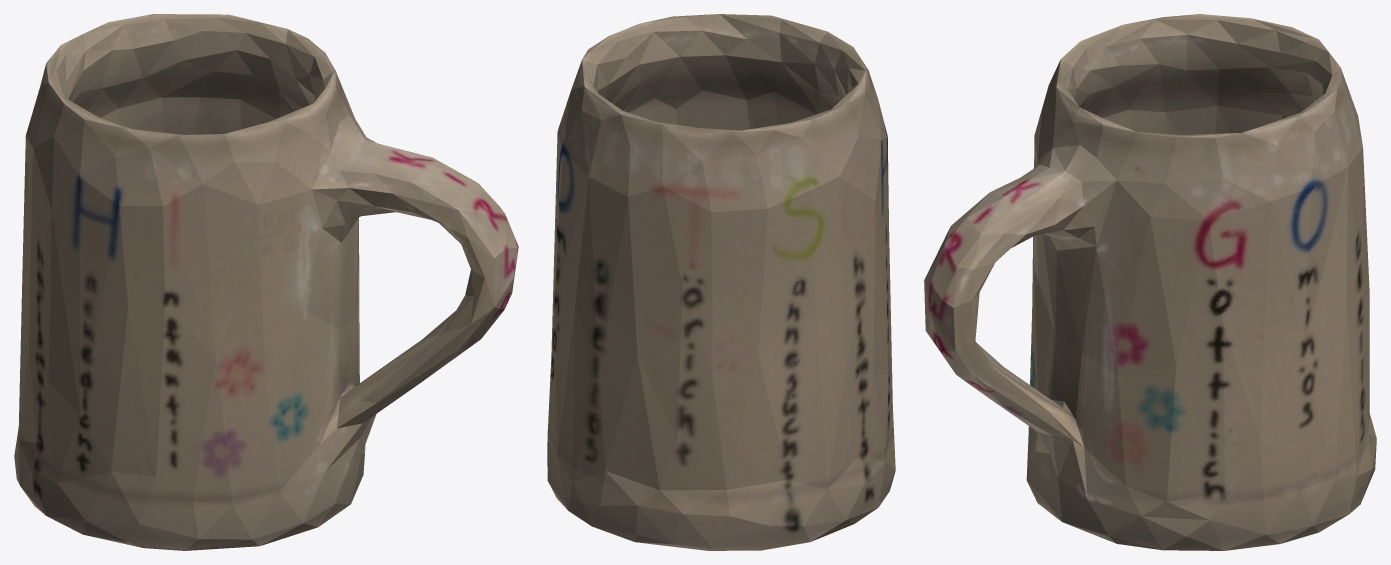
File: E6D5AF89-0DCE-6043-83A5-E7B84FA5E97D_512.glb
3 renders of one model, left to right at view 1: azimuth 30°, elevation 25°; view 2: azimuth 150°, elevation 25°; view 3: azimuth 270°, elevation 25°, orthographic.
Parts seen in each view (by area): view 1: Krug Akronym_0.8k_0.5k; view 2: Krug Akronym_0.8k_0.5k; view 3: Krug Akronym_0.8k_0.5k.
Boxes of the visible parts, <box> form: Krug Akronym_0.8k_0.5k: <box>14,14,518,550</box>; Krug Akronym_0.8k_0.5k: <box>547,14,895,550</box>; Krug Akronym_0.8k_0.5k: <box>924,14,1376,550</box>.
Bounding box in the file's own units: 0.1148 × 0.1268 × 0.1268.
1 material, 1 textured.
